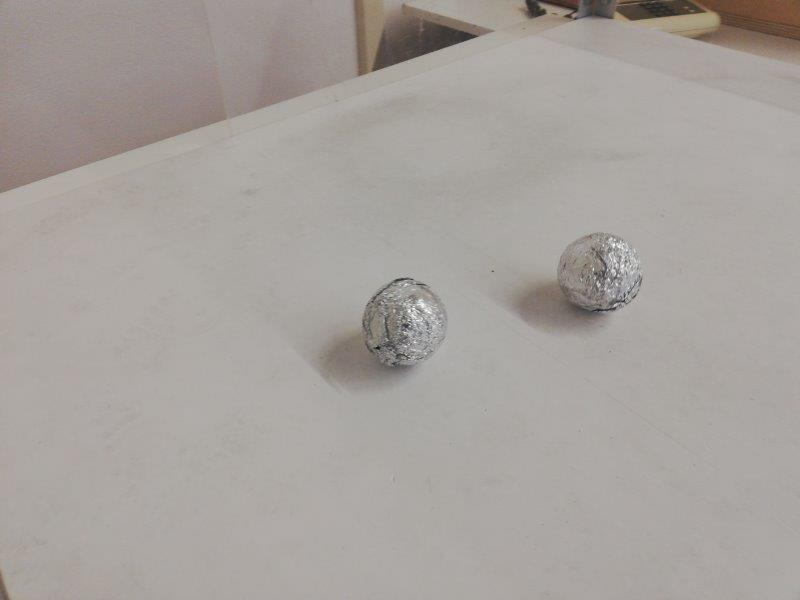bianca: (365, 275, 450, 368), (558, 234, 643, 315)
